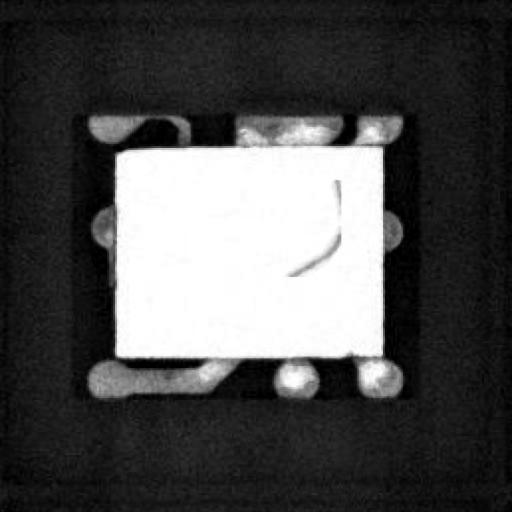DIE_INK: (270, 186, 322, 286)
